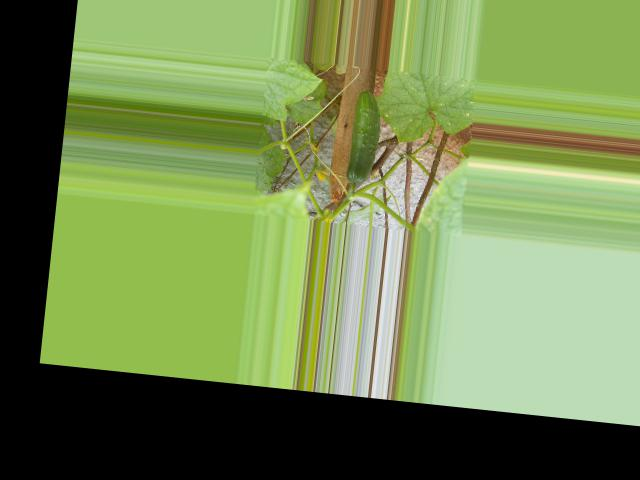cucumber: (344, 89, 383, 186)
